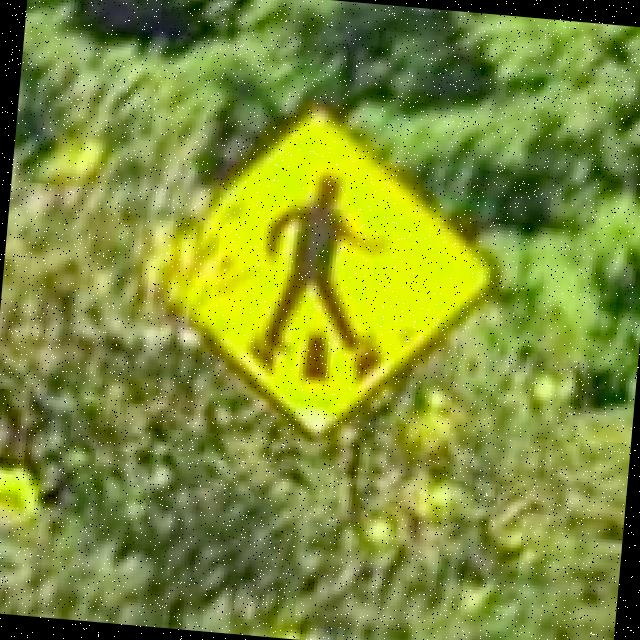Przejscie dla pieszych: (230, 98, 496, 442)
